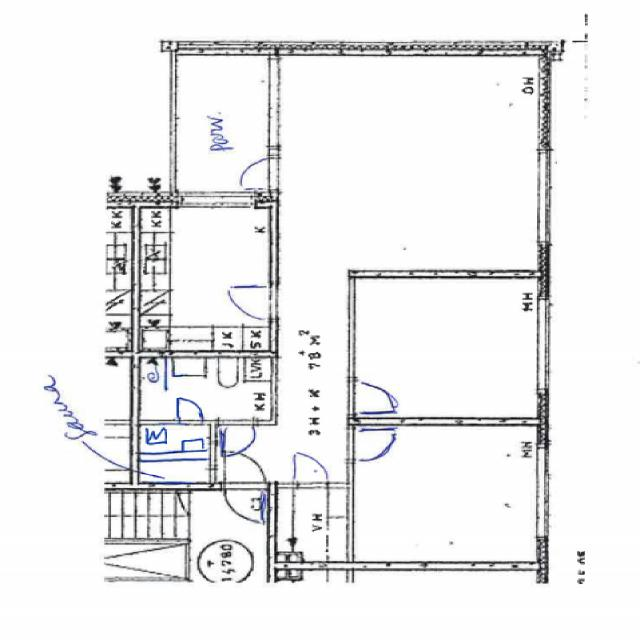door: (225, 449, 265, 489), (225, 482, 265, 522), (348, 381, 394, 414), (232, 286, 278, 319), (233, 157, 279, 187), (348, 429, 392, 460), (222, 420, 254, 451), (296, 457, 326, 488), (178, 400, 202, 424)
